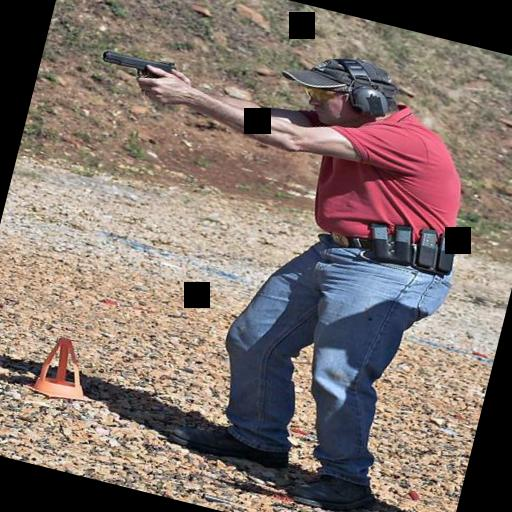Handgun: (96, 42, 179, 90)
